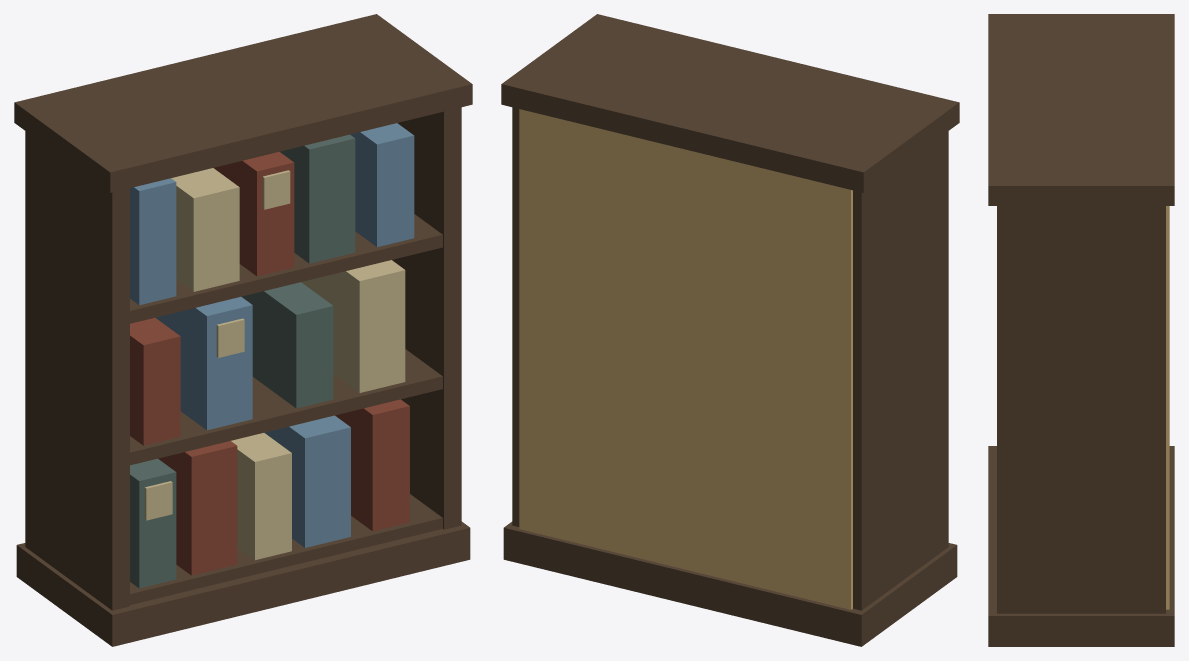
Rendered from prop-bookcase.glb.
The picture shows the model from 3 angles, left to right: view 1: azimuth 30°, elevation 25°; view 2: azimuth 150°, elevation 25°; view 3: azimuth 270°, elevation 25°; orthographic projection. The views are drawn at different scales.
Visible parts, largest first — view 1: bookcase; view 2: bookcase; view 3: bookcase.
Part boxes in pixels (x1,y1,x2,y2): bookcase: [14, 14, 472, 646]; bookcase: [501, 14, 959, 646]; bookcase: [988, 14, 1174, 646].
Size of the model in its own units: 0.83 by 1.04 by 0.38.
